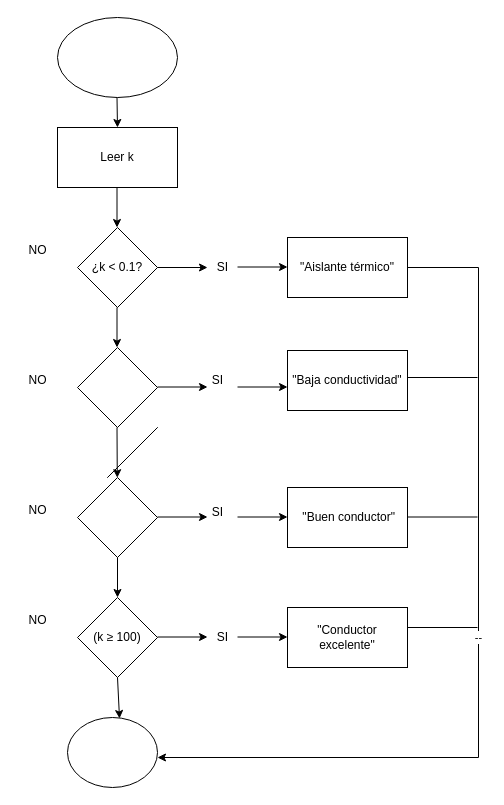
Image size: 504x805. Some labels were removed from this diagram. The centre of each missing label's shape, as x and y in pixels:
"FIN" goes at (112,752).
"inicio" goes at (117,57).
"¿0.1 ≤ k < 1?" goes at (117,387).
"¿1 ≤ k < 100?" goes at (117,517).
